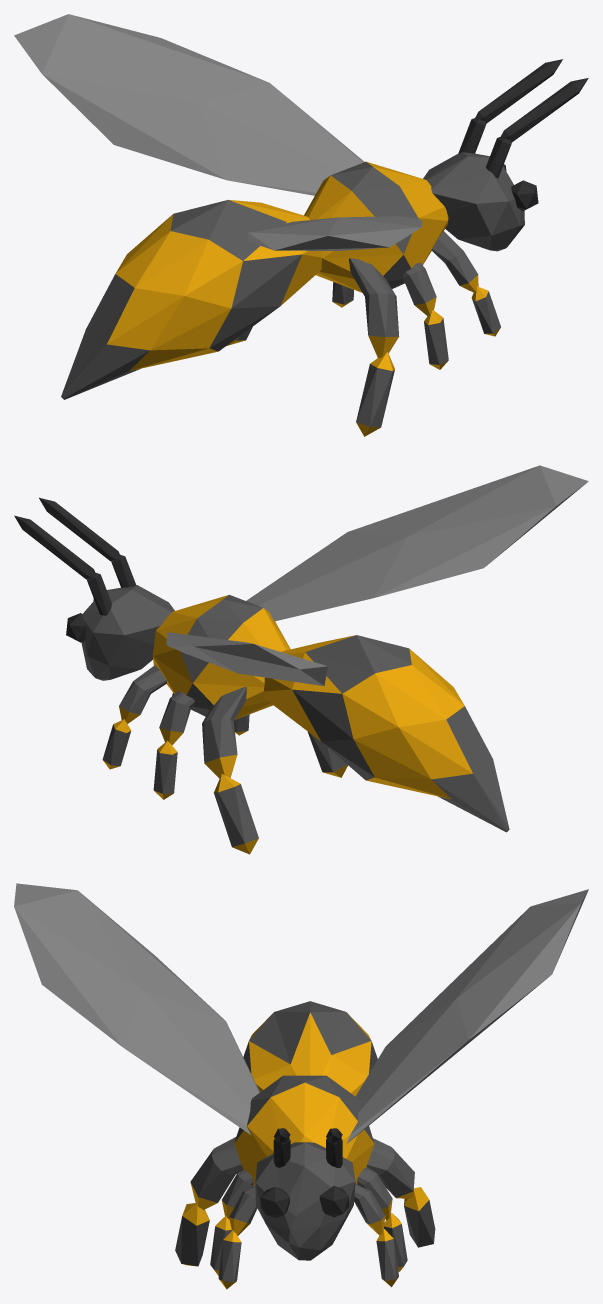
The model's file is Bee.fbx.
The picture shows the model from 3 angles, top to bottom: view 1: azimuth 30°, elevation 25°; view 2: azimuth 150°, elevation 25°; view 3: azimuth 270°, elevation 25°; orthographic projection. The views are drawn at different scales.
Parts seen in each view (by area): view 1: Icosphere.086; view 2: Icosphere.086; view 3: Icosphere.086.
Boxes of the visible parts, x1,y1,x2,y2 form: Icosphere.086: (14,14,588,436); Icosphere.086: (14,465,588,854); Icosphere.086: (14,883,588,1289).
Bounding box in the file's own units: 14461 × 8322 × 13901.
